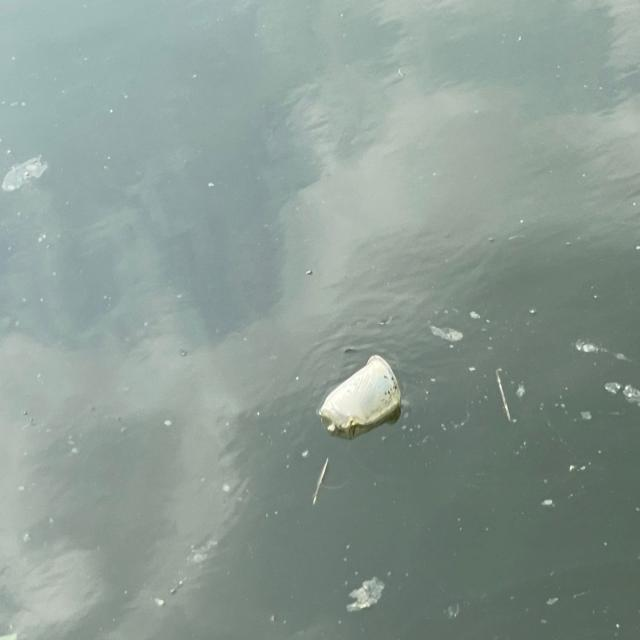Bungkus Minuman: (318, 350, 407, 442)
